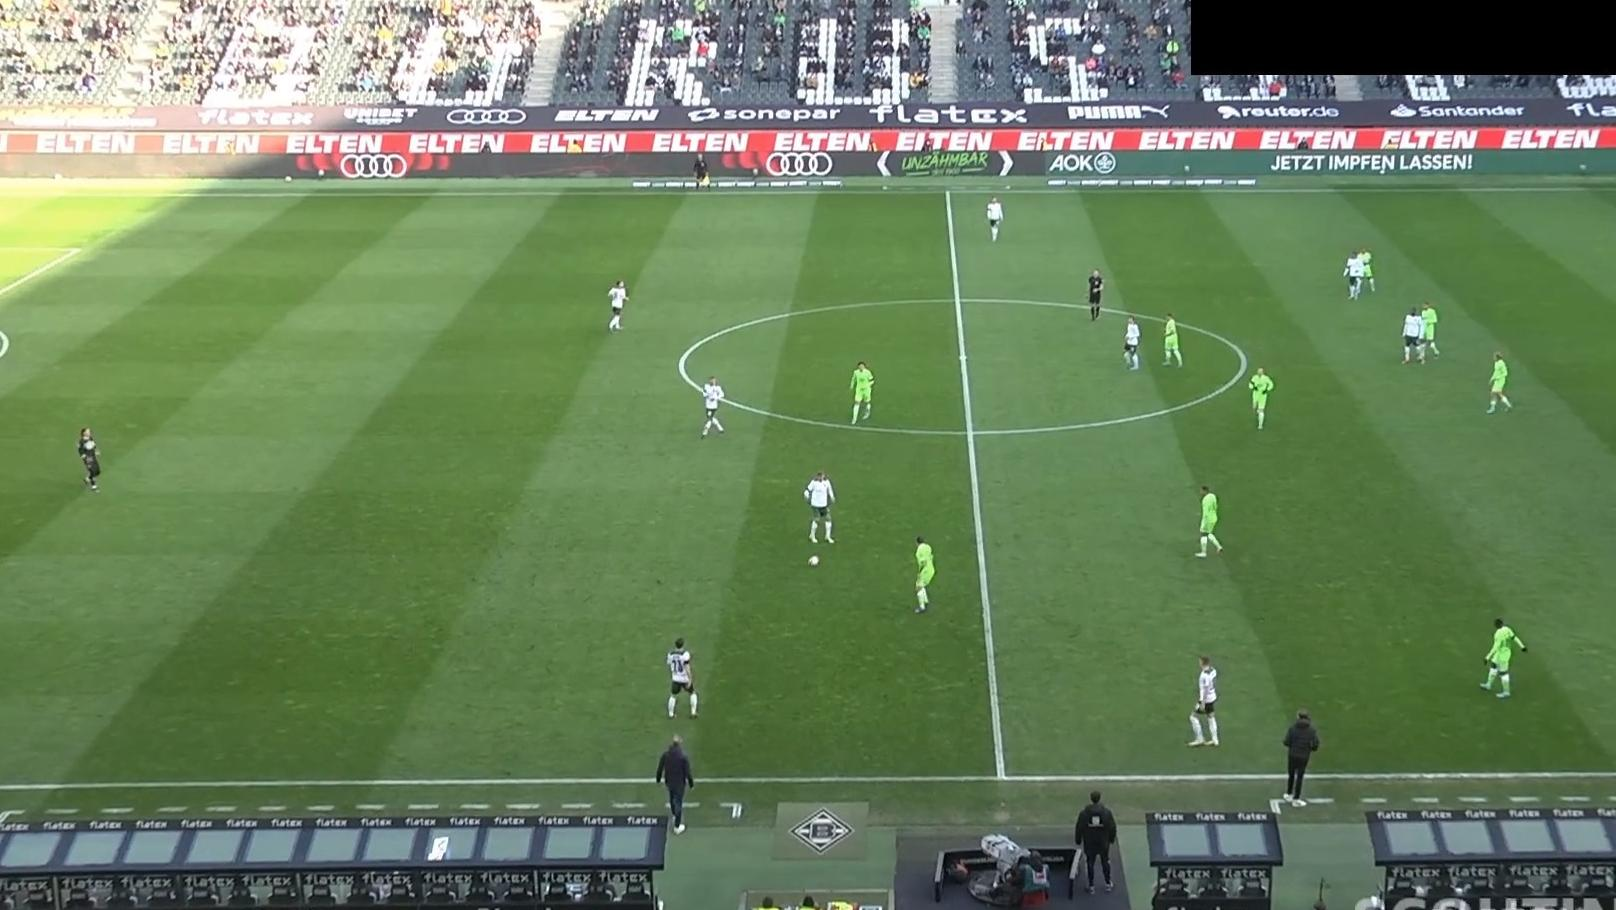ball: (807, 555, 820, 567)
